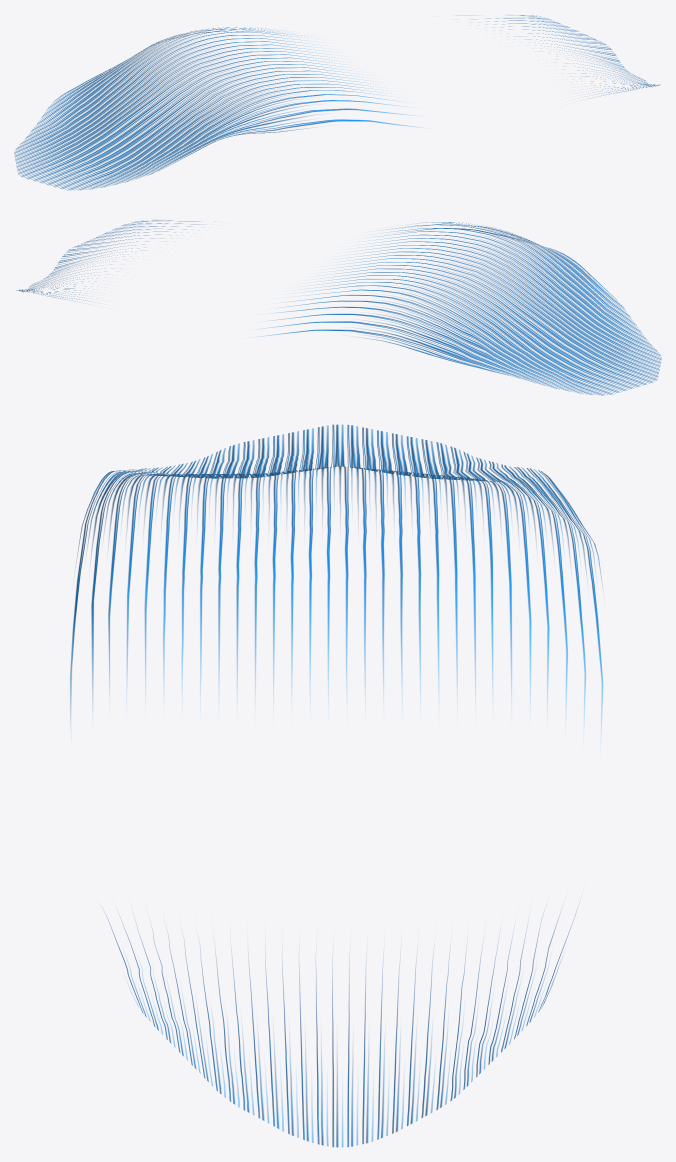
File: wind.glb
The picture shows the model from 3 angles, top to bottom: view 1: azimuth 30°, elevation 25°; view 2: azimuth 150°, elevation 25°; view 3: azimuth 270°, elevation 25°; orthographic projection. The views are drawn at different scales.
Visible parts, largest first — view 1: WIND; view 2: WIND; view 3: WIND.
Boxes of the visible parts, x1,y1,x2,y2 form: WIND: (14, 15, 659, 190); WIND: (16, 220, 661, 395); WIND: (70, 424, 602, 1147).
Size of the model in its own units: 386077 by 71096 by 147305.
1 material, 1 textured.
